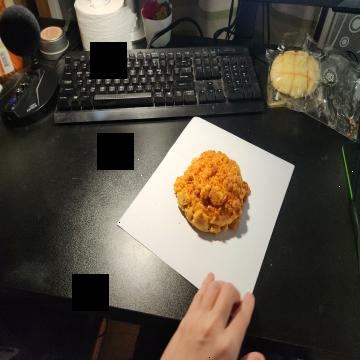soboru_bread: (173, 150, 253, 236)
